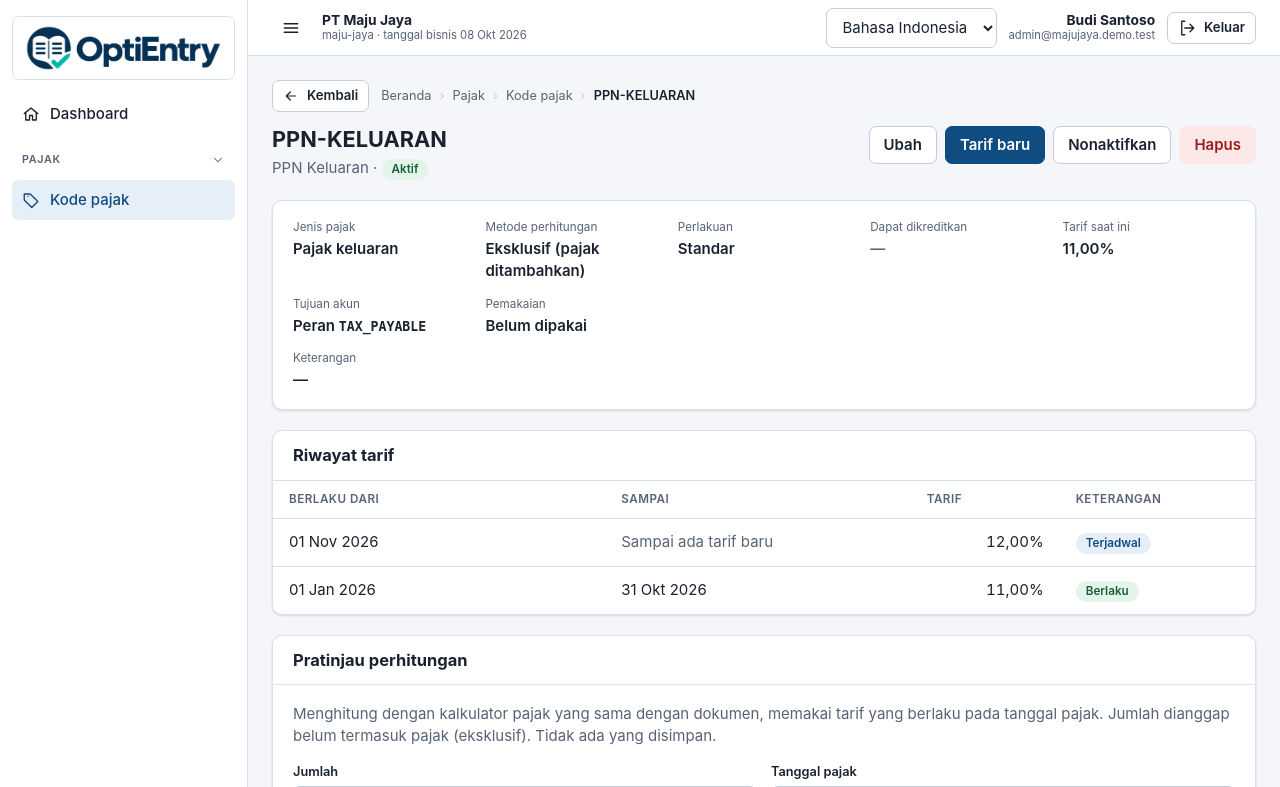
Test: tax code detail › adds a rate with the decimal comma turned into a point and shows the retroactive-change refusal
Click the button "Tarif baru": (995, 145) [945,126,1045,164]
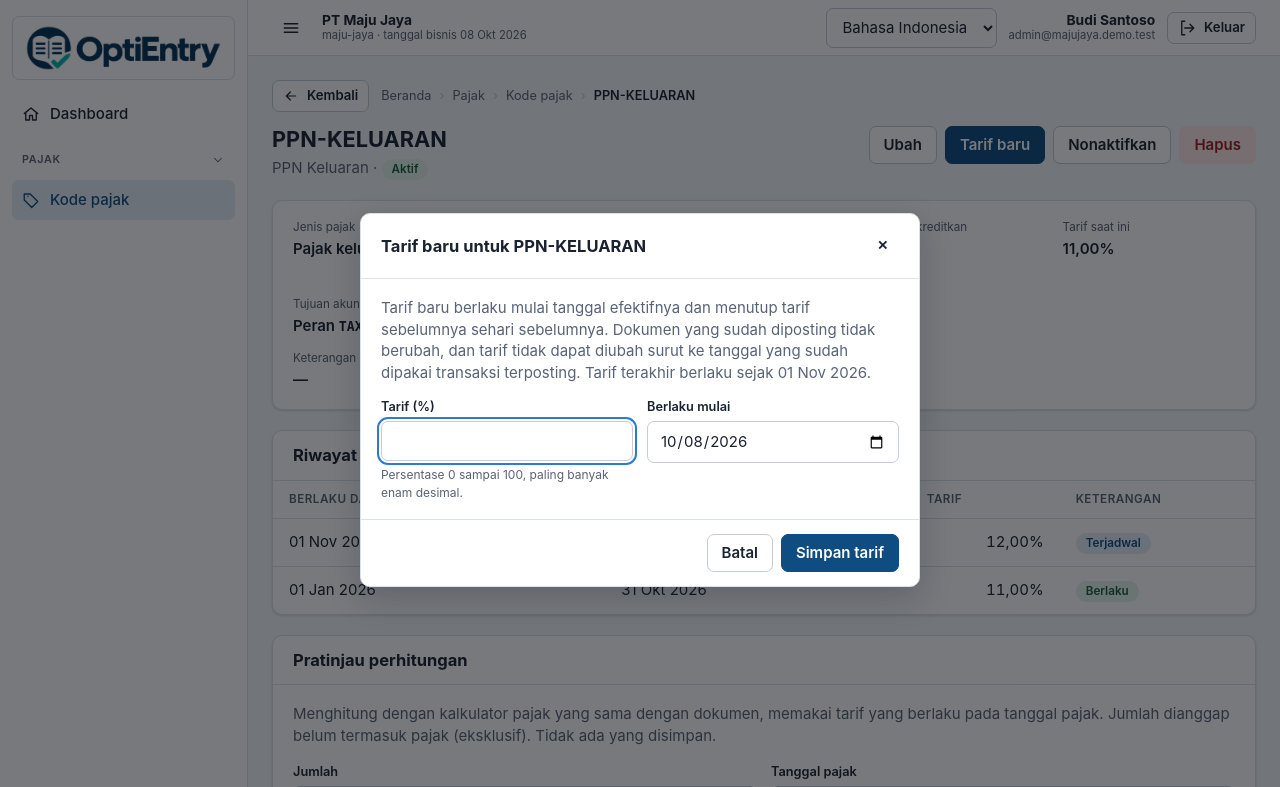
In the field labelled "Tarif (%)": (507, 441) [381,421,633,461], type "12,5"
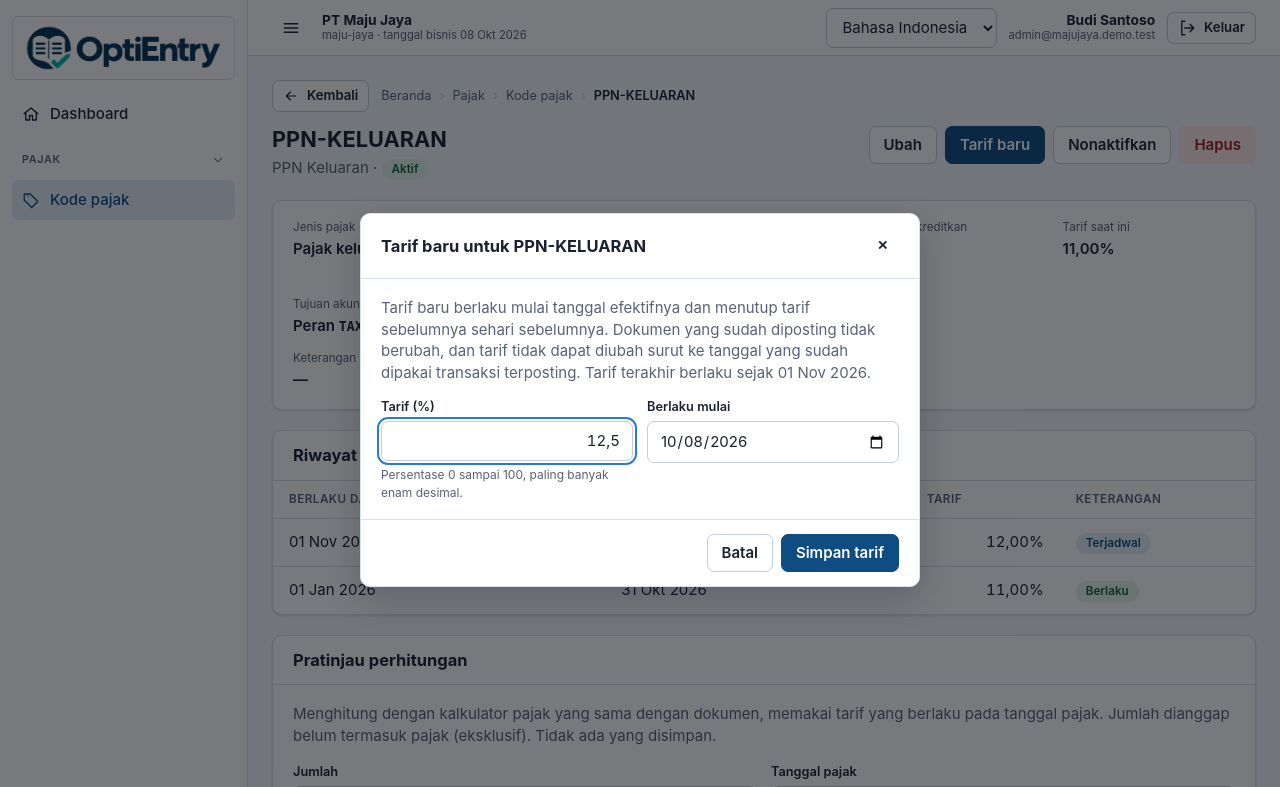
In the date field labelled "Berlaku mulai": (773, 442) [647,421,899,463], type "2026-09-01"
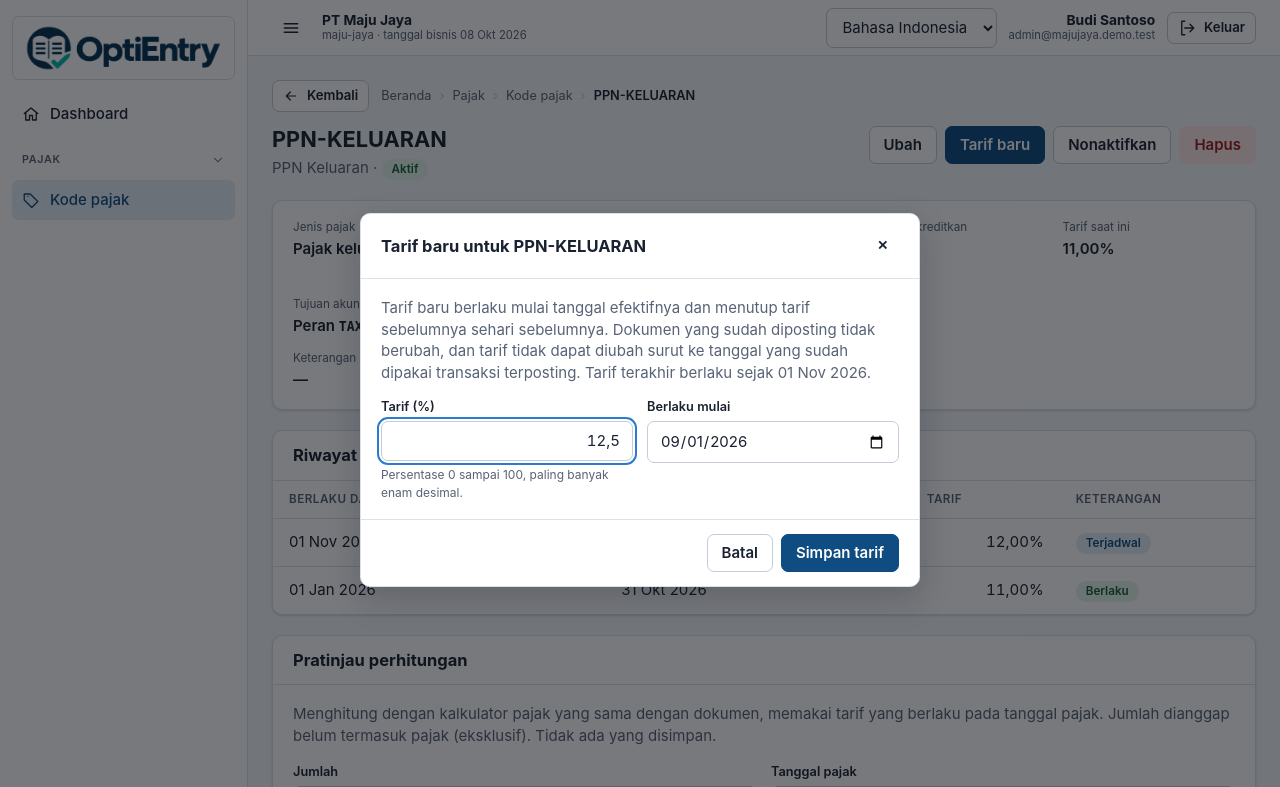
Click the button "Simpan tarif": (840, 553) [781,534,899,572]
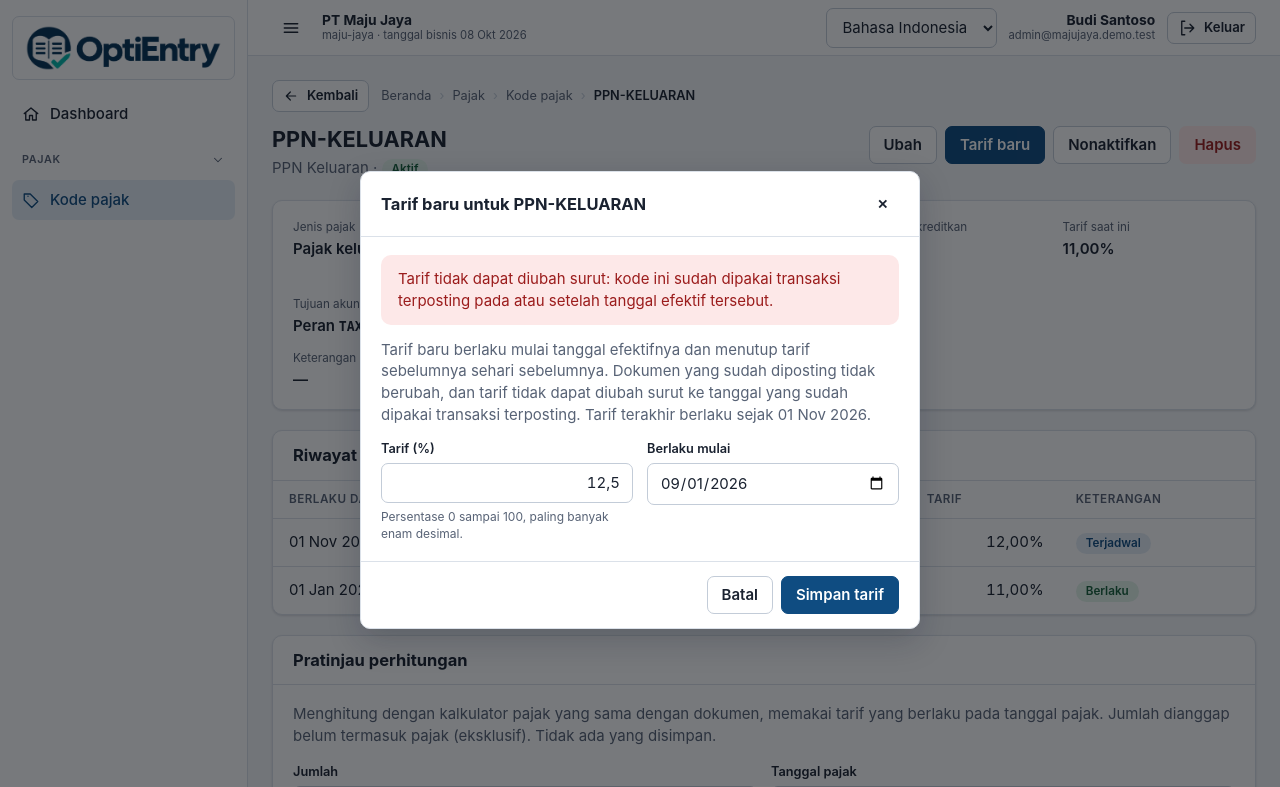
Check: the text "Tarif tidak dapat diubah surut" is shown, box [398,269,840,310]
